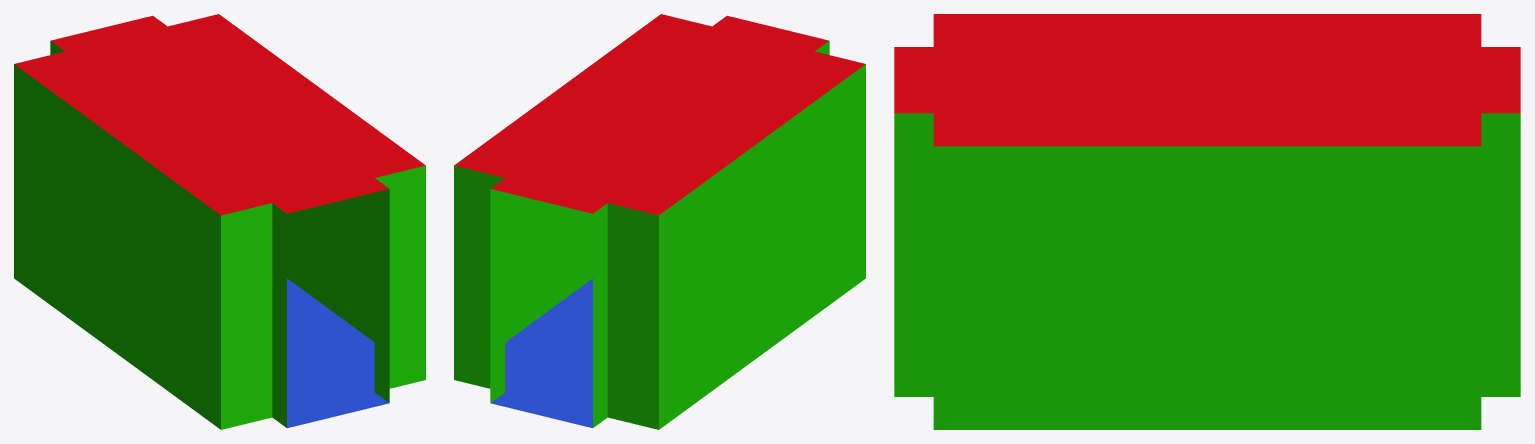
The model's file is 1x2_Room.fbx.
3 renders of one model, left to right at view 1: azimuth 30°, elevation 25°; view 2: azimuth 150°, elevation 25°; view 3: azimuth 270°, elevation 25°, orthographic. The views are drawn at different scales.
Visible parts, largest first — view 1: 1x2 Room; view 2: 1x2 Room; view 3: 1x2 Room.
Boxes of the visible parts, <box> form: 1x2 Room: <box>14,14,425,429</box>; 1x2 Room: <box>454,14,865,429</box>; 1x2 Room: <box>894,14,1520,429</box>.
Bounding box in the file's own units: 800 × 800 × 1600.
